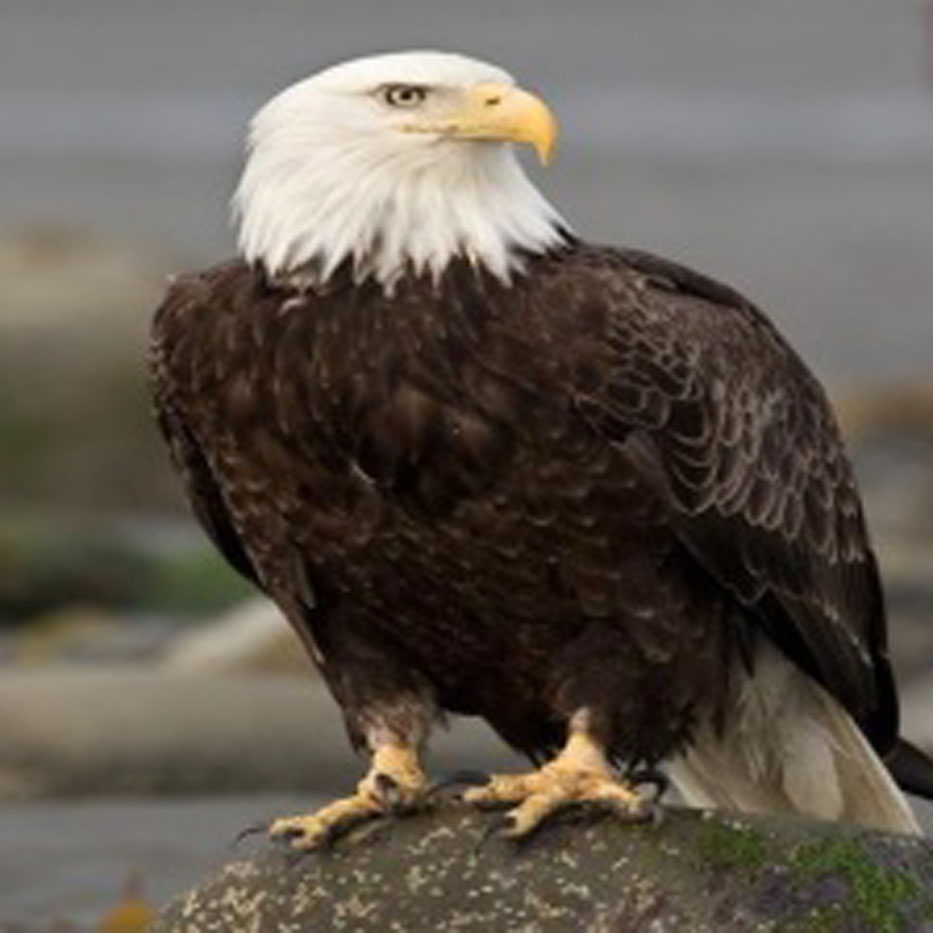Pengoyak Daging: (474, 74, 567, 176)
